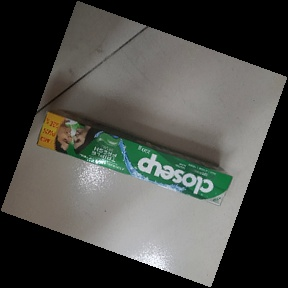CloseUp Xanh: (35, 110, 233, 208)
